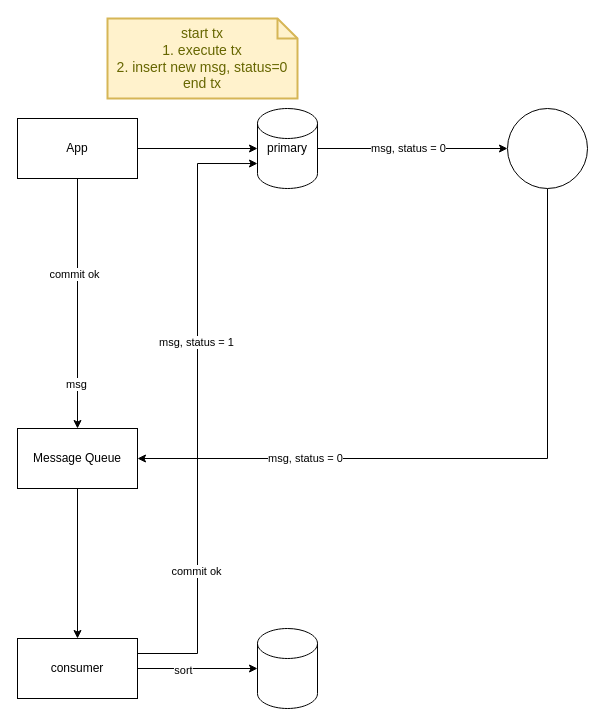
Image size: 605x726. Some labels were removed from this diagram. Each missing label, with the centre of its shape:
checker: the point at 547,148
replica: the point at 287,668
